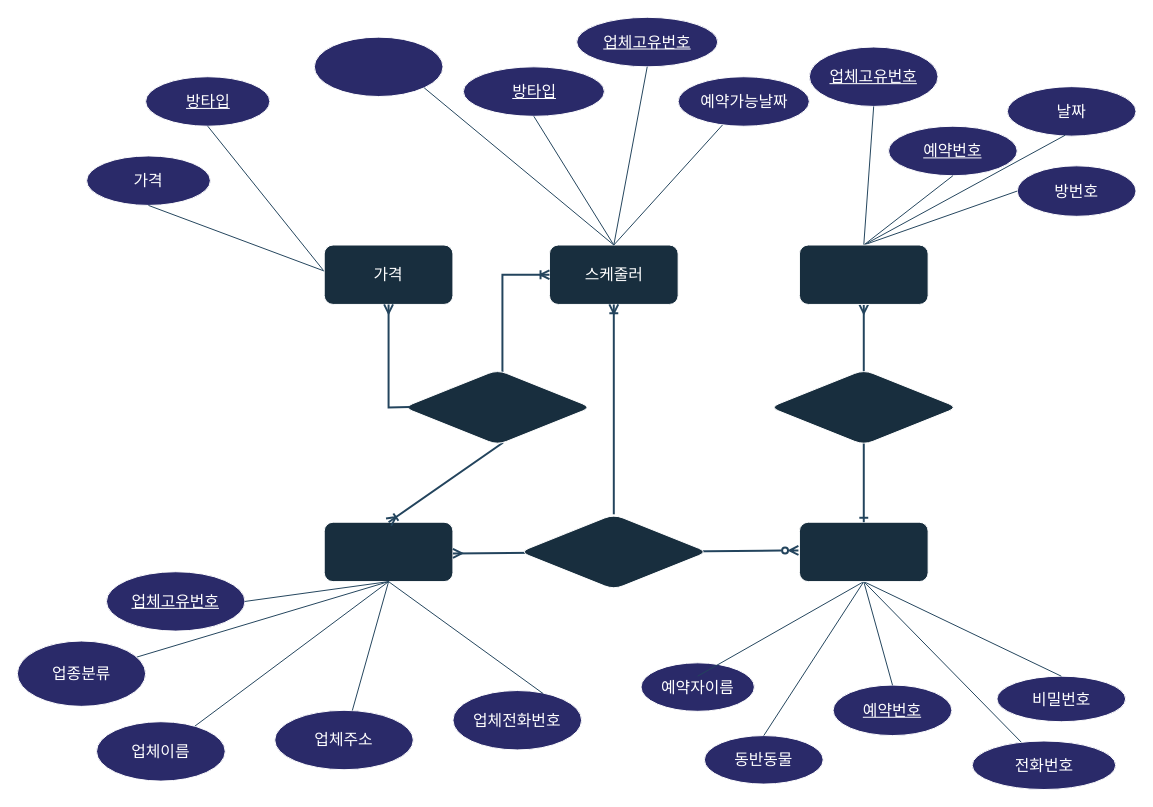
Image size: 1153x807. Some labels were removed from this diagram. The centre of each missing label's shape, as x and y in pixels:
"고객" goes at point 863,551.
"등록" goes at point 497,407.
"업체" goes at point 388,551.
"예약상태" goes at point 378,66.
"예약상태확인" goes at point 613,551.
"예약완료" goes at point 863,407.
"예약정보" goes at point 863,274.
